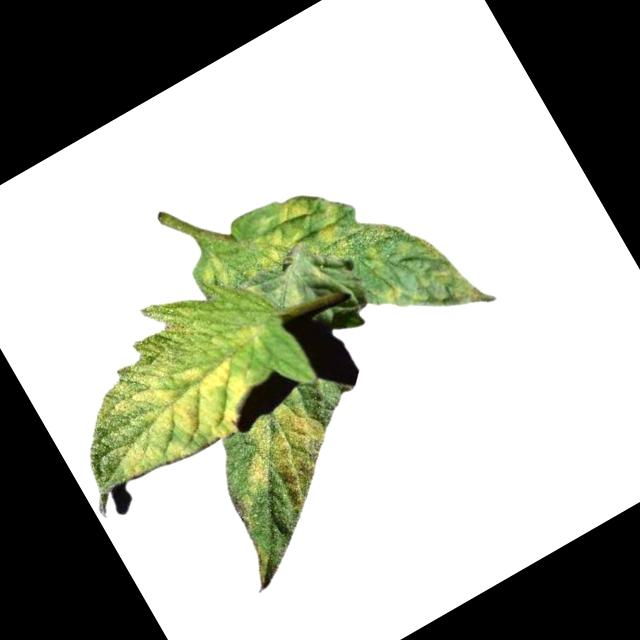Leaf_Mold: (73, 318, 266, 494), (223, 390, 355, 527), (234, 221, 310, 288), (220, 310, 278, 367), (309, 201, 361, 262), (269, 190, 312, 230), (375, 283, 407, 314)
